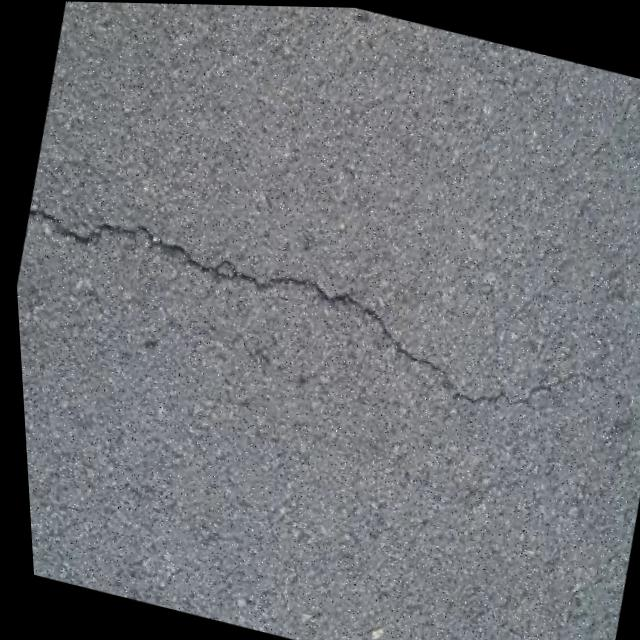Crack: (8, 166, 640, 480)
